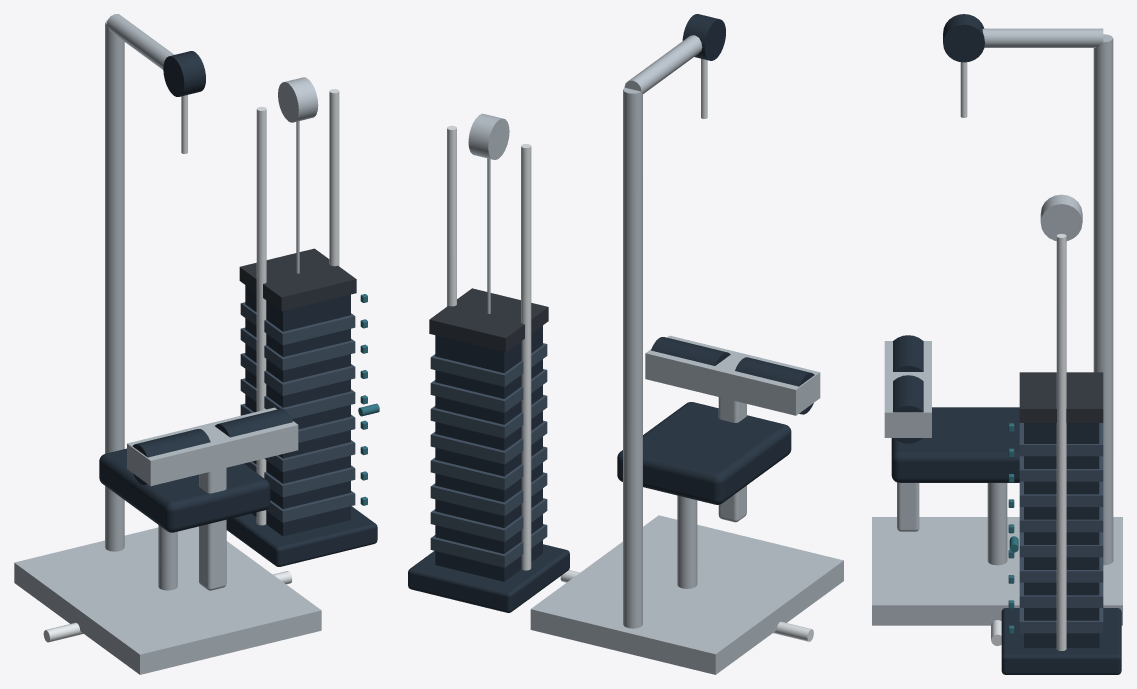
File: lat_pulldown.glb
3 renders of one model, left to right at view 1: azimuth 30°, elevation 25°; view 2: azimuth 150°, elevation 25°; view 3: azimuth 270°, elevation 25°, orthographic. The views are drawn at different scales.
Visible parts, largest first — view 1: base, weightPlate (×8), stack, overhead, seat, thighRestraint, guide (×2), stackBase, stackLift, kneePadPost, thighRoller (×2), cablePulley (+5 smaller); view 2: base, weightPlate (×8), stack, seat, overhead, guide (×2), thighRestraint, stackBase, stackLift, thighRoller (×2), post, pulleyArm (+4 smaller); view 3: base, weightPlate (×8), overhead, stack, seat, stackBase, guide, stackLift, thighRestraint, pulleyArm, thighRoller (×2), post (+4 smaller).
Part boxes in pixels (left/top/right/bottom): base: left=14, top=526, right=321, bottom=674; weightPlate (×8): left=240, top=302, right=355, bottom=522; stack: left=245, top=285, right=350, bottom=536; overhead: left=105, top=20, right=124, bottom=551; seat: left=99, top=448, right=270, bottom=532; thighRestraint: left=127, top=407, right=298, bottom=485; guide (×2): left=256, top=89, right=339, bottom=525; stackBase: left=226, top=506, right=377, bottom=566; stackLift: left=239, top=248, right=356, bottom=311; kneePadPost: left=199, top=468, right=226, bottom=590; thighRoller (×2): left=132, top=408, right=292, bottom=484; cablePulley: left=163, top=51, right=205, bottom=96; base: left=530, top=515, right=843, bottom=674; weightPlate (×8): left=430, top=343, right=547, bottom=567; stack: left=435, top=325, right=542, bottom=581; seat: left=617, top=402, right=791, bottom=504; overhead: left=623, top=87, right=642, bottom=628; guide (×2): left=447, top=125, right=531, bottom=570; thighRestraint: left=645, top=335, right=820, bottom=415; stackBase: left=408, top=544, right=569, bottom=612; stackLift: left=429, top=288, right=548, bottom=352; thighRoller (×2): left=651, top=337, right=814, bottom=414; post: left=677, top=495, right=697, bottom=588; pulleyArm: left=624, top=35, right=702, bottom=93; base: left=872, top=517, right=1122, bottom=625; weightPlate (×8): left=1019, top=423, right=1103, bottom=633; overhead: left=1093, top=34, right=1113, bottom=565; stack: left=1024, top=423, right=1099, bottom=647; seat: left=891, top=407, right=1019, bottom=482; stackBase: left=1001, top=608, right=1121, bottom=674; guide: left=1056, top=234, right=1066, bottom=650; stackLift: left=1019, top=372, right=1103, bottom=422; thighRestraint: left=884, top=341, right=931, bottom=437; pulleyArm: left=982, top=28, right=1103, bottom=47; thighRoller (×2): left=893, top=335, right=923, bottom=443; post: left=987, top=483, right=1007, bottom=565.
Size of the model in its own units: 1.4 by 2.25 by 0.9.
